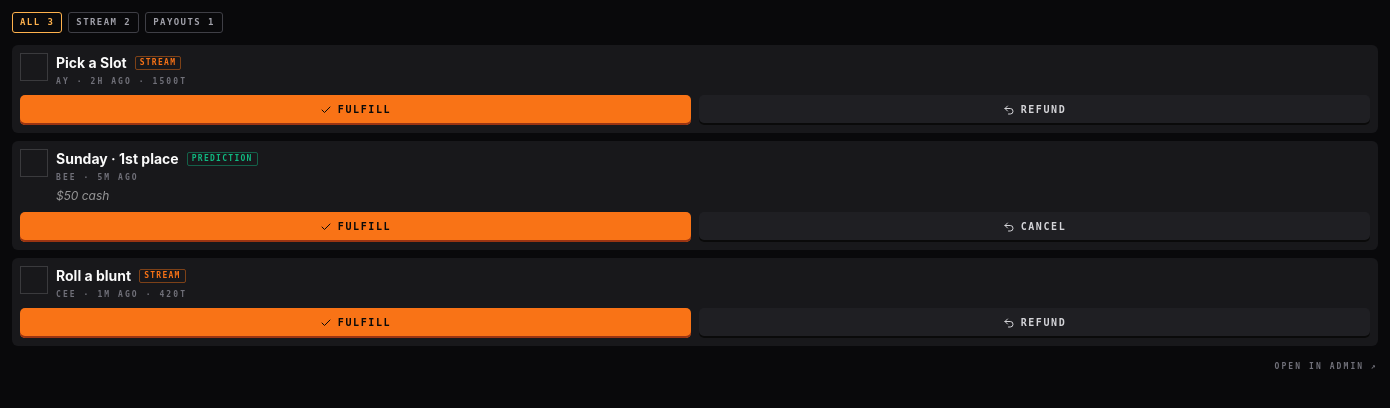
Test: errors show under their row in plain words
The width and height of the screenshot is (1390, 408).
Click the 1st button "Fulfill" at (356, 110), box [20,95,691,125]
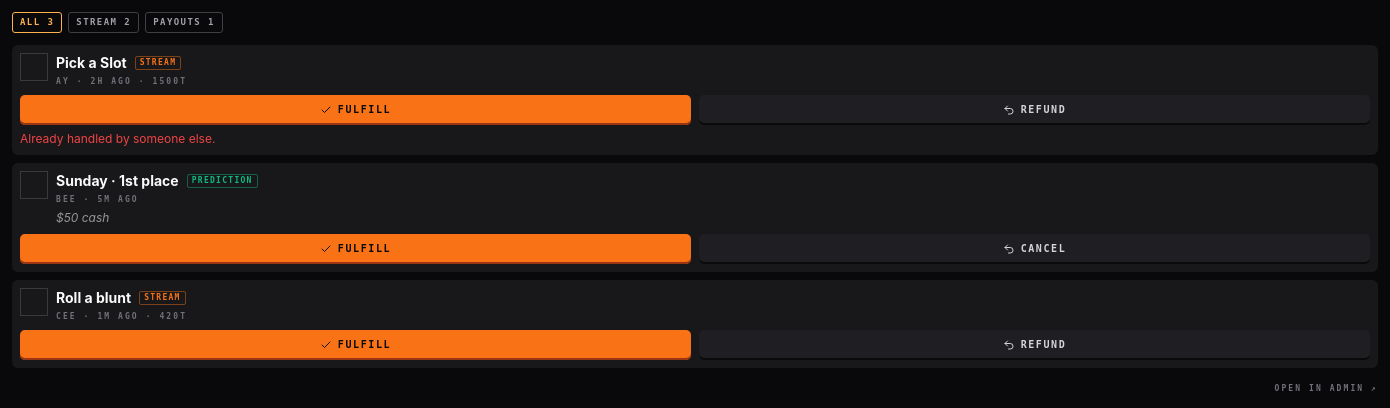
Now the message reads "Already handled by someone else.", box [20,131,215,146]
